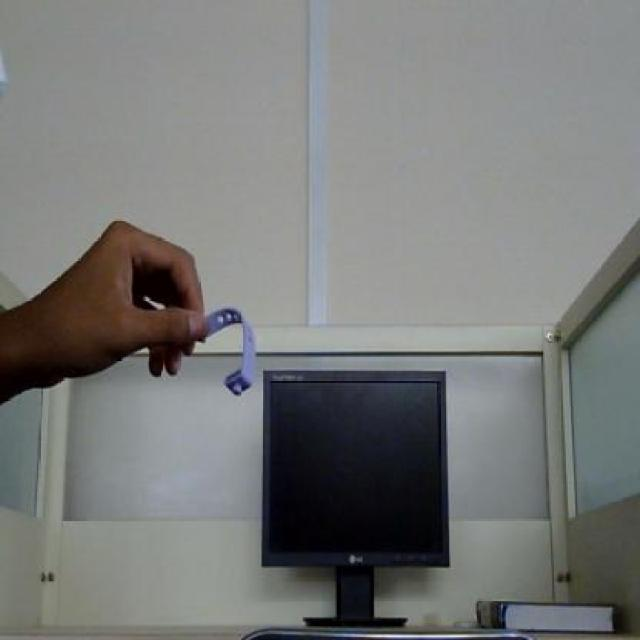Plastic: (199, 296, 262, 407)
